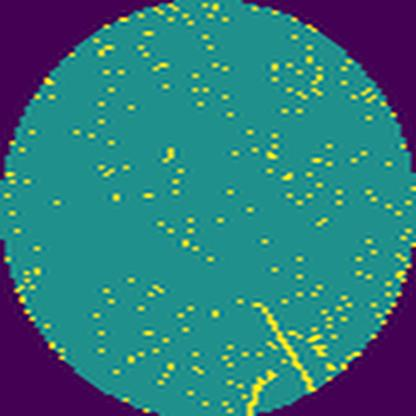Scratch: (250, 295, 318, 394), (244, 367, 282, 416)
